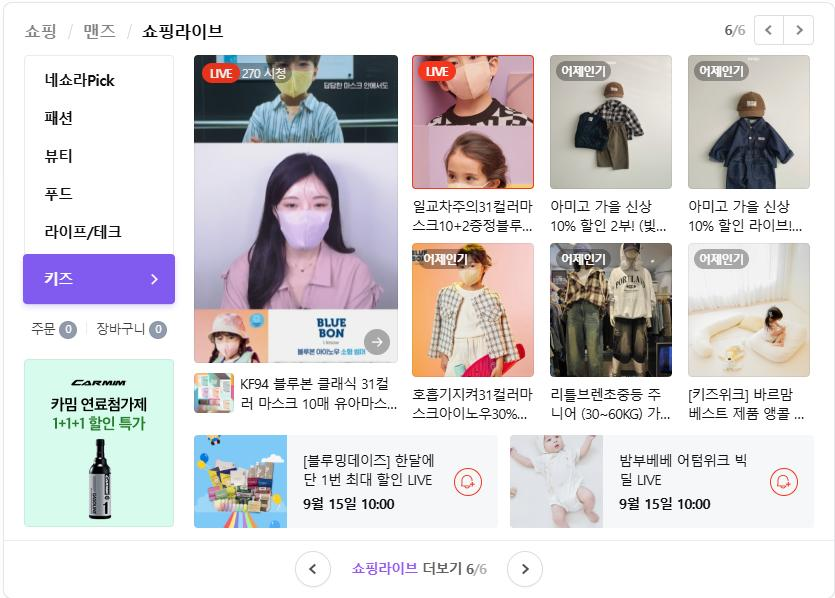button: (27, 56, 170, 95), (28, 106, 165, 139), (35, 146, 163, 177), (31, 262, 165, 290), (51, 219, 154, 247), (37, 187, 172, 207), (97, 316, 172, 341), (145, 28, 218, 43), (294, 554, 331, 582), (73, 25, 116, 48), (509, 556, 544, 583), (19, 20, 55, 46), (39, 314, 76, 337), (758, 469, 802, 488), (458, 465, 481, 488), (757, 22, 779, 39), (796, 18, 809, 35)
